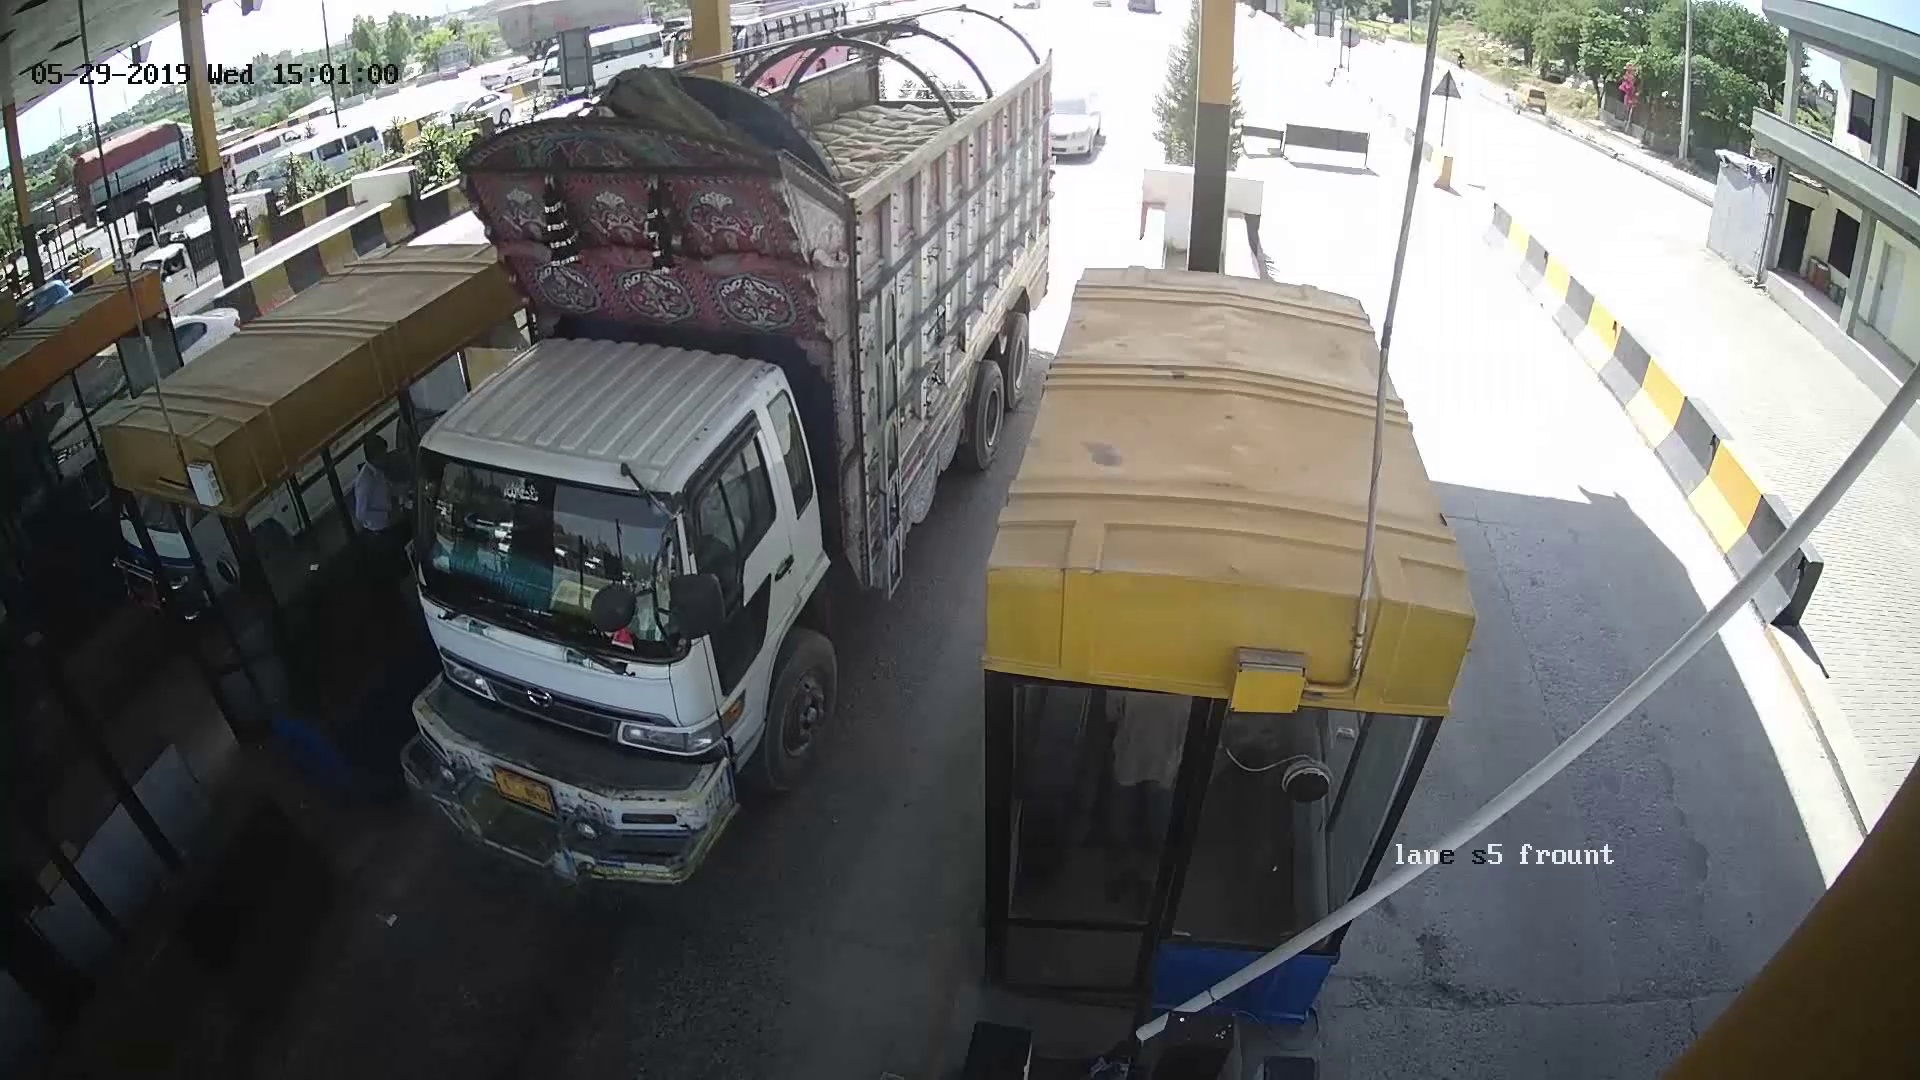truck: (425, 135, 851, 880)
